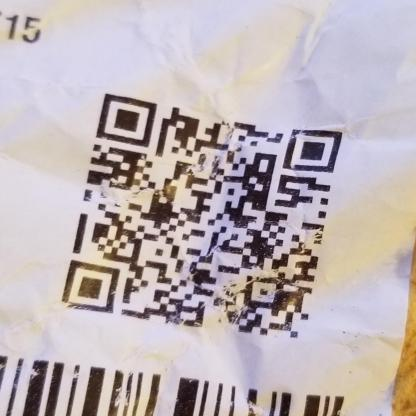barcode: (1, 348, 348, 416)
qr: (53, 88, 343, 346)
